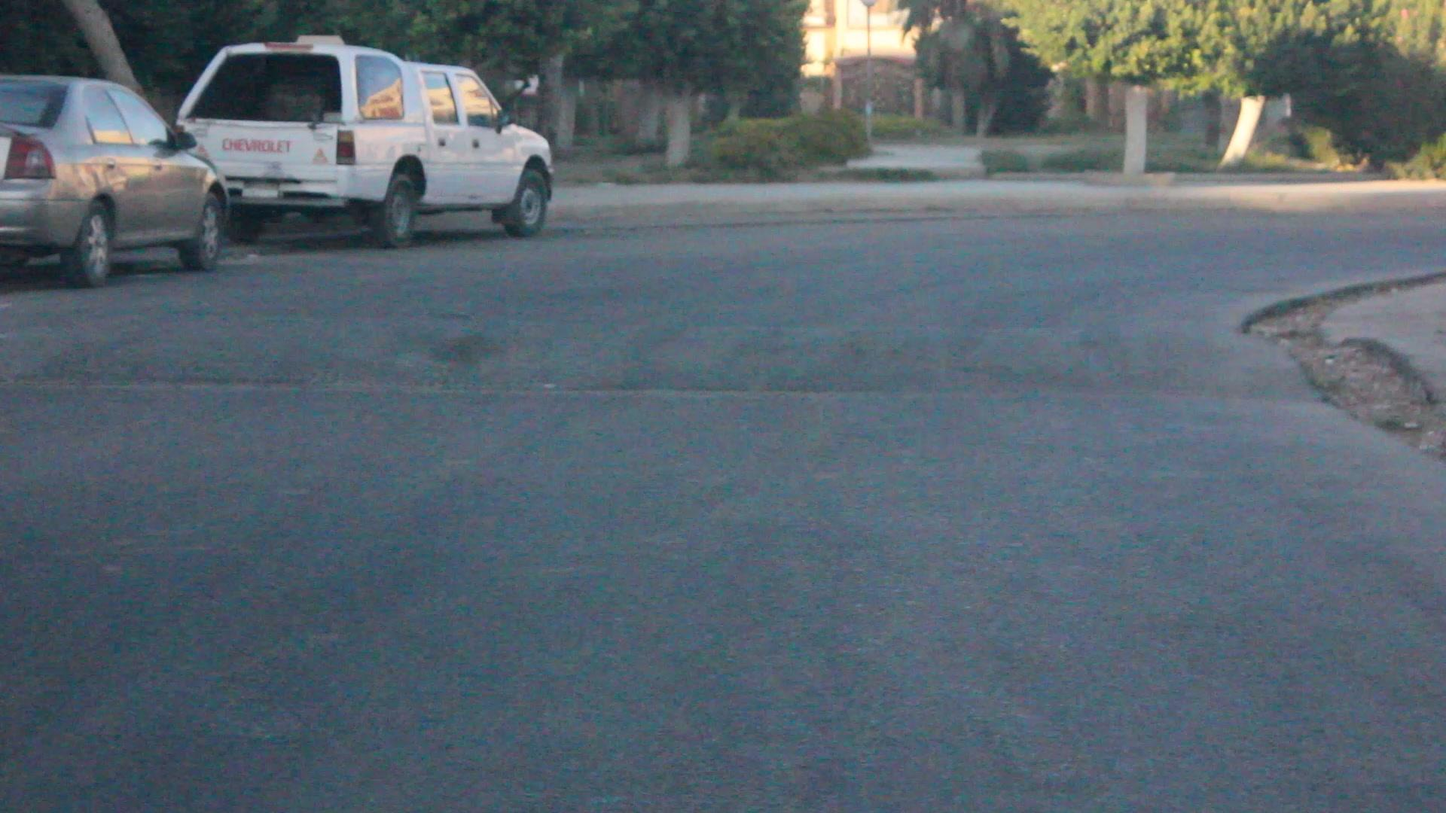Bump: (11, 303, 1314, 405)
